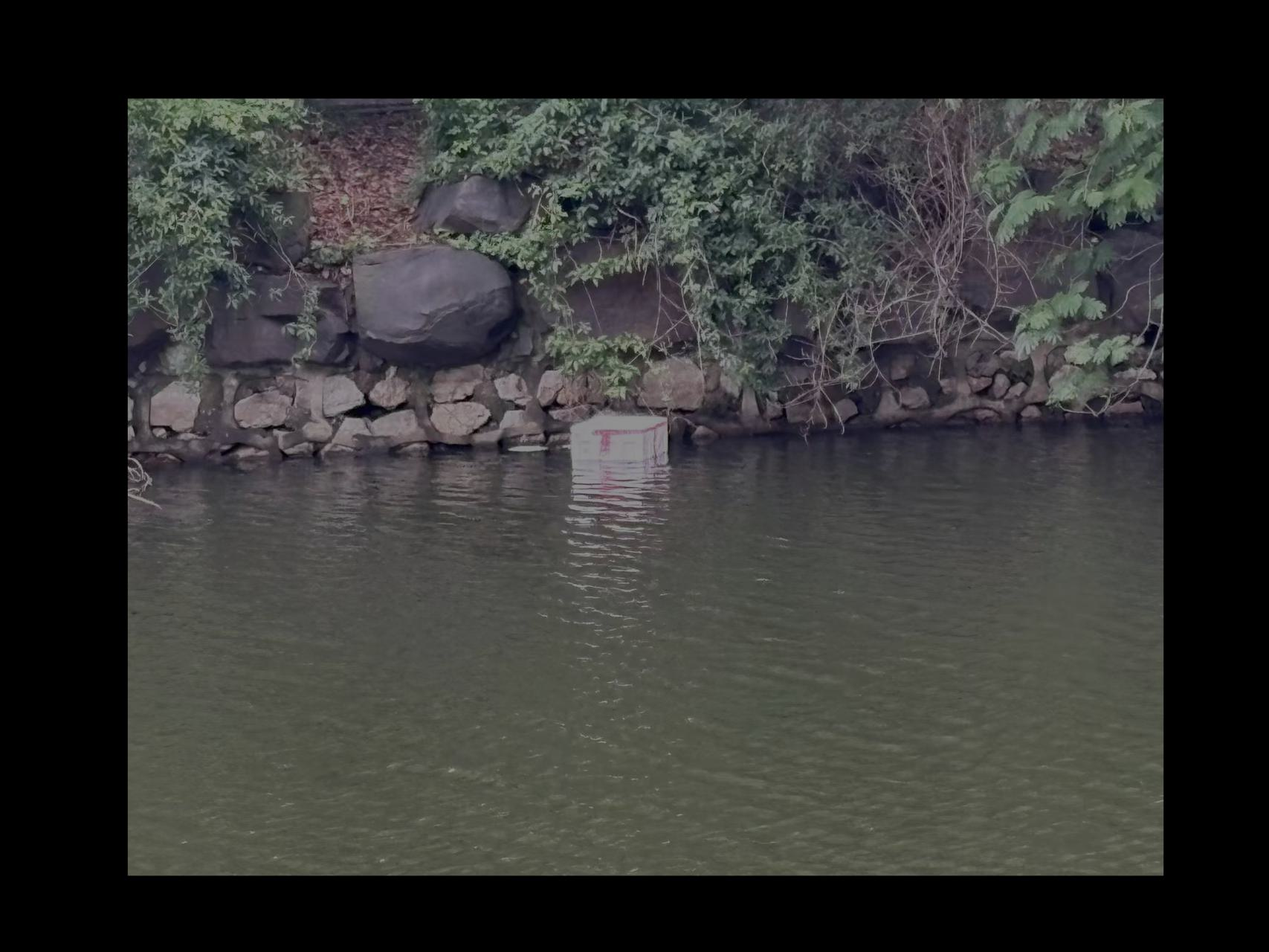Plastic wastes: (567, 415, 668, 462)
